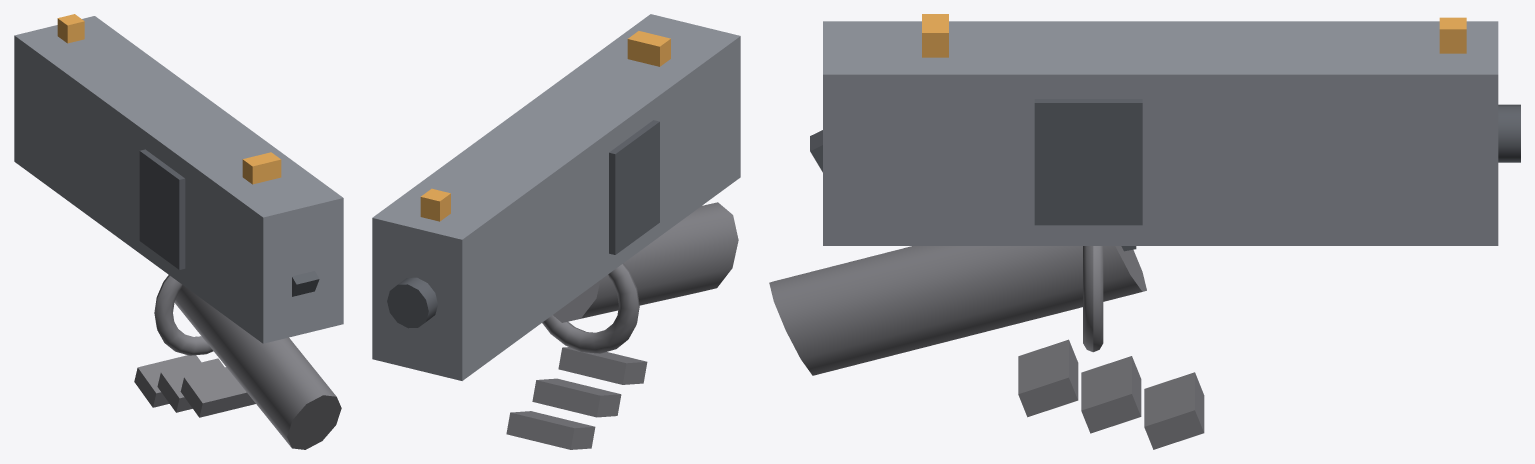
The model's file is pistol.glb.
3 views of the same model, side by side, from view 1: azimuth 30°, elevation 25°; view 2: azimuth 150°, elevation 25°; view 3: azimuth 270°, elevation 25° (orthographic). The views are drawn at different scales.
Parts seen in each view (by area): view 1: Pistol; view 2: Pistol; view 3: Pistol.
Boxes of the visible parts, bbox=[...] form: Pistol: bbox=[14, 14, 343, 449]; Pistol: bbox=[372, 14, 740, 449]; Pistol: bbox=[769, 14, 1520, 449].
Size of the model in its own units: 0.068 by 0.1998 by 0.334.
